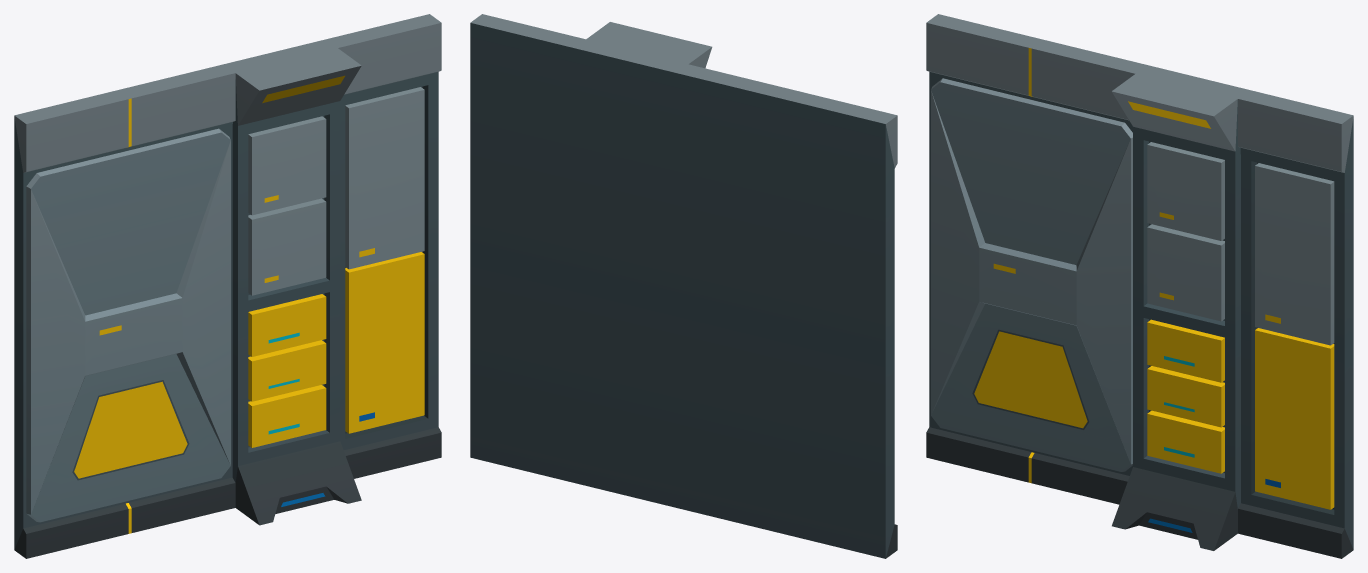
The model's file is Wall_type_C_010.fbx.
3 views of the same model, side by side, from view 1: azimuth 30°, elevation 25°; view 2: azimuth 150°, elevation 25°; view 3: azimuth 330°, elevation 25° (orthographic).
Parts seen in each view (by area): view 1: Wall_type_C_010; view 2: Wall_type_C_010; view 3: Wall_type_C_010.
Part boxes in pixels (box(x1,y1,x2,y2)): Wall_type_C_010: box(14, 14, 441, 558); Wall_type_C_010: box(470, 14, 897, 558); Wall_type_C_010: box(926, 14, 1353, 558).
Bounding box in the file's own units: 400 × 60 × 400.
